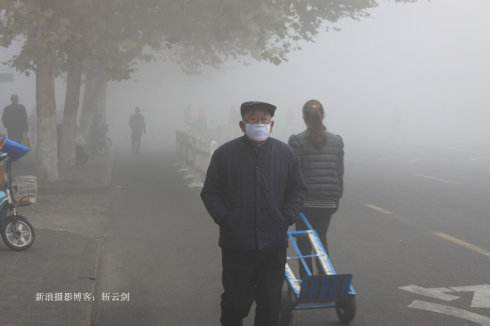person: (199, 98, 290, 325), (289, 97, 344, 284), (3, 90, 30, 147), (126, 105, 146, 154)
